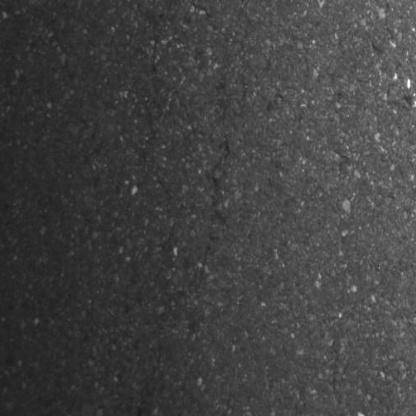Cracks: (148, 0, 257, 138), (190, 229, 223, 316), (208, 136, 237, 234)
